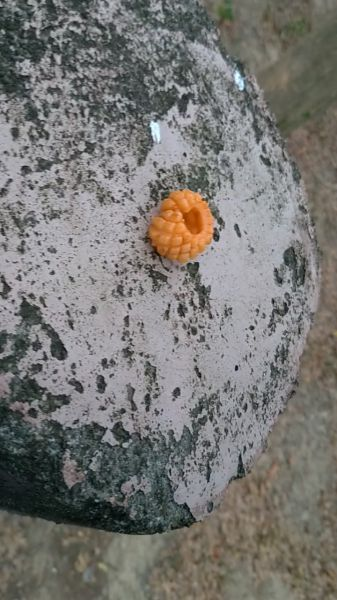eggs: (143, 181, 223, 266)
